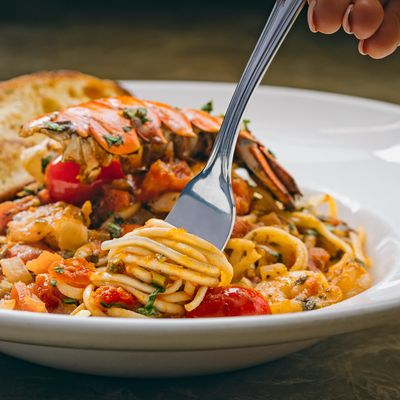burger: (165, 0, 311, 251)
